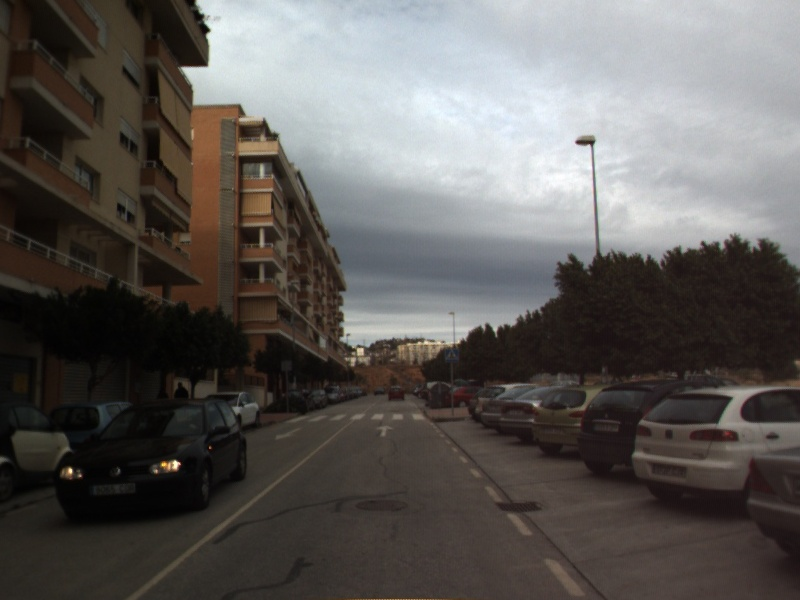STRAIGHT: (374, 423, 396, 439)
